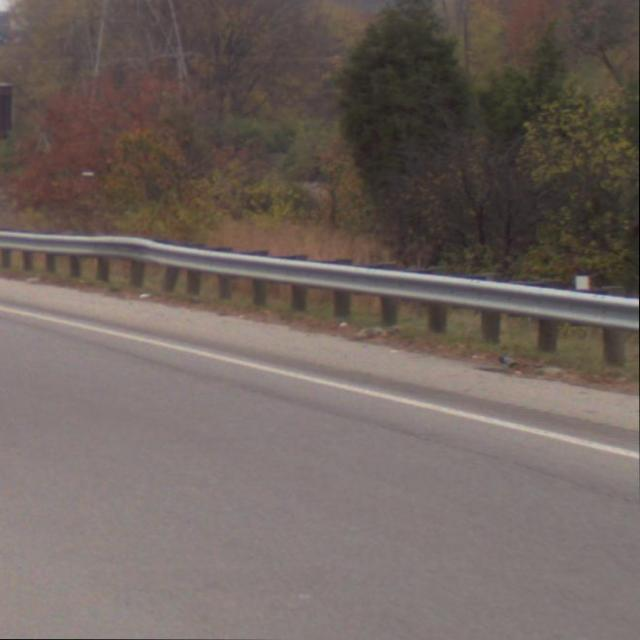Guard rail: (0, 226, 640, 373)
